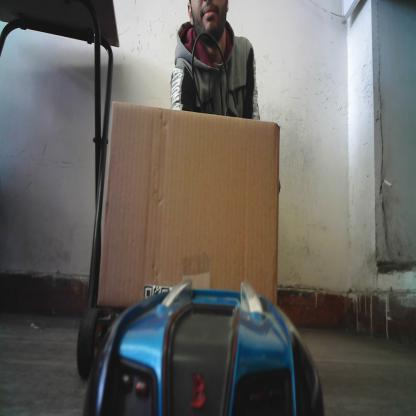LeadTruck: (76, 96, 288, 384)
